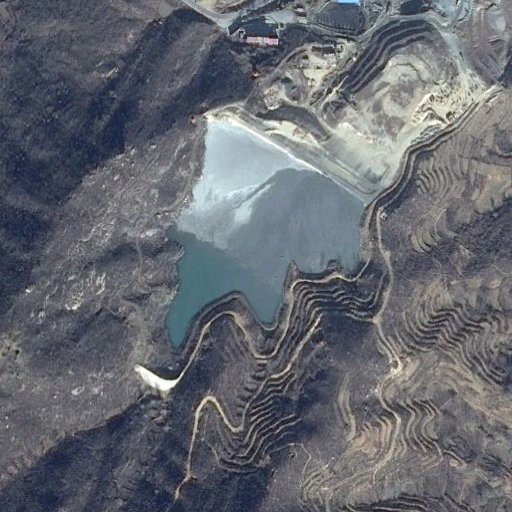tp: (162, 108, 378, 358)
